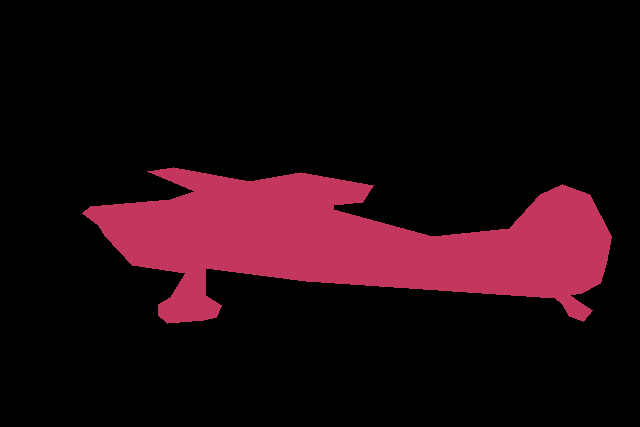Airplane: (82, 167, 612, 324)
